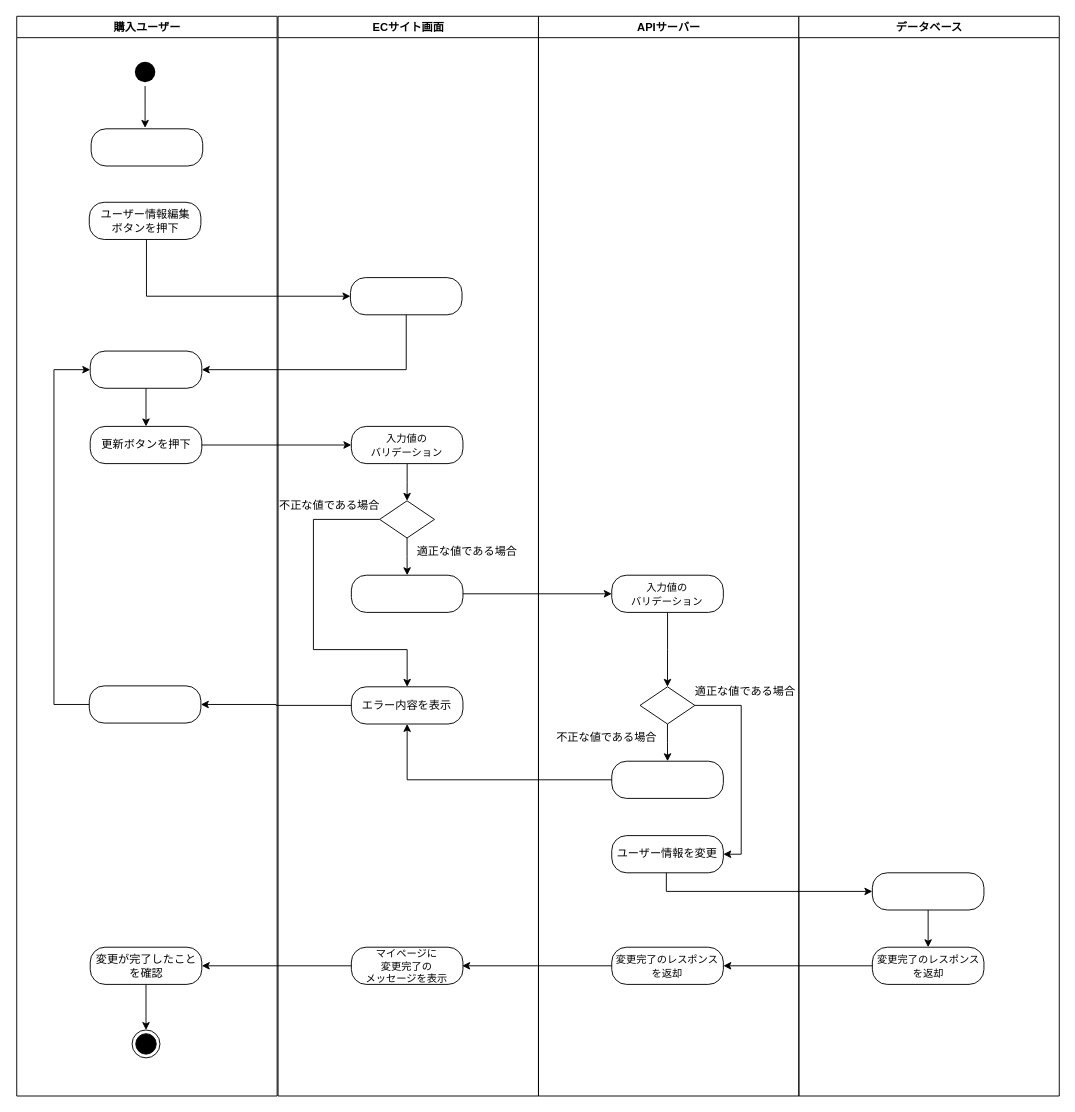
This 1075x1112 diagram has some shape labels left out. Each missing label, with the centre of its shape:
"APIリクエストを送信" belongs at (406,593).
"エラーを返却" belongs at (667,779).
"エラー内容を確認" belongs at (144,704).
"ユーザー情報を更新" belongs at (927,891).
"ユーザー情報を編集" belongs at (145,369).
"ユーザー情報編集画面を表示" belongs at (405,296).
"個人情報" belongs at (146,147).
